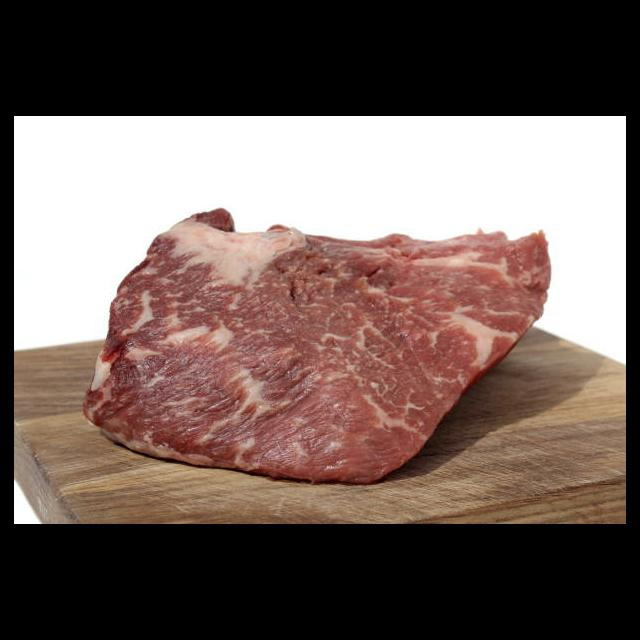beef: (84, 203, 551, 485)
